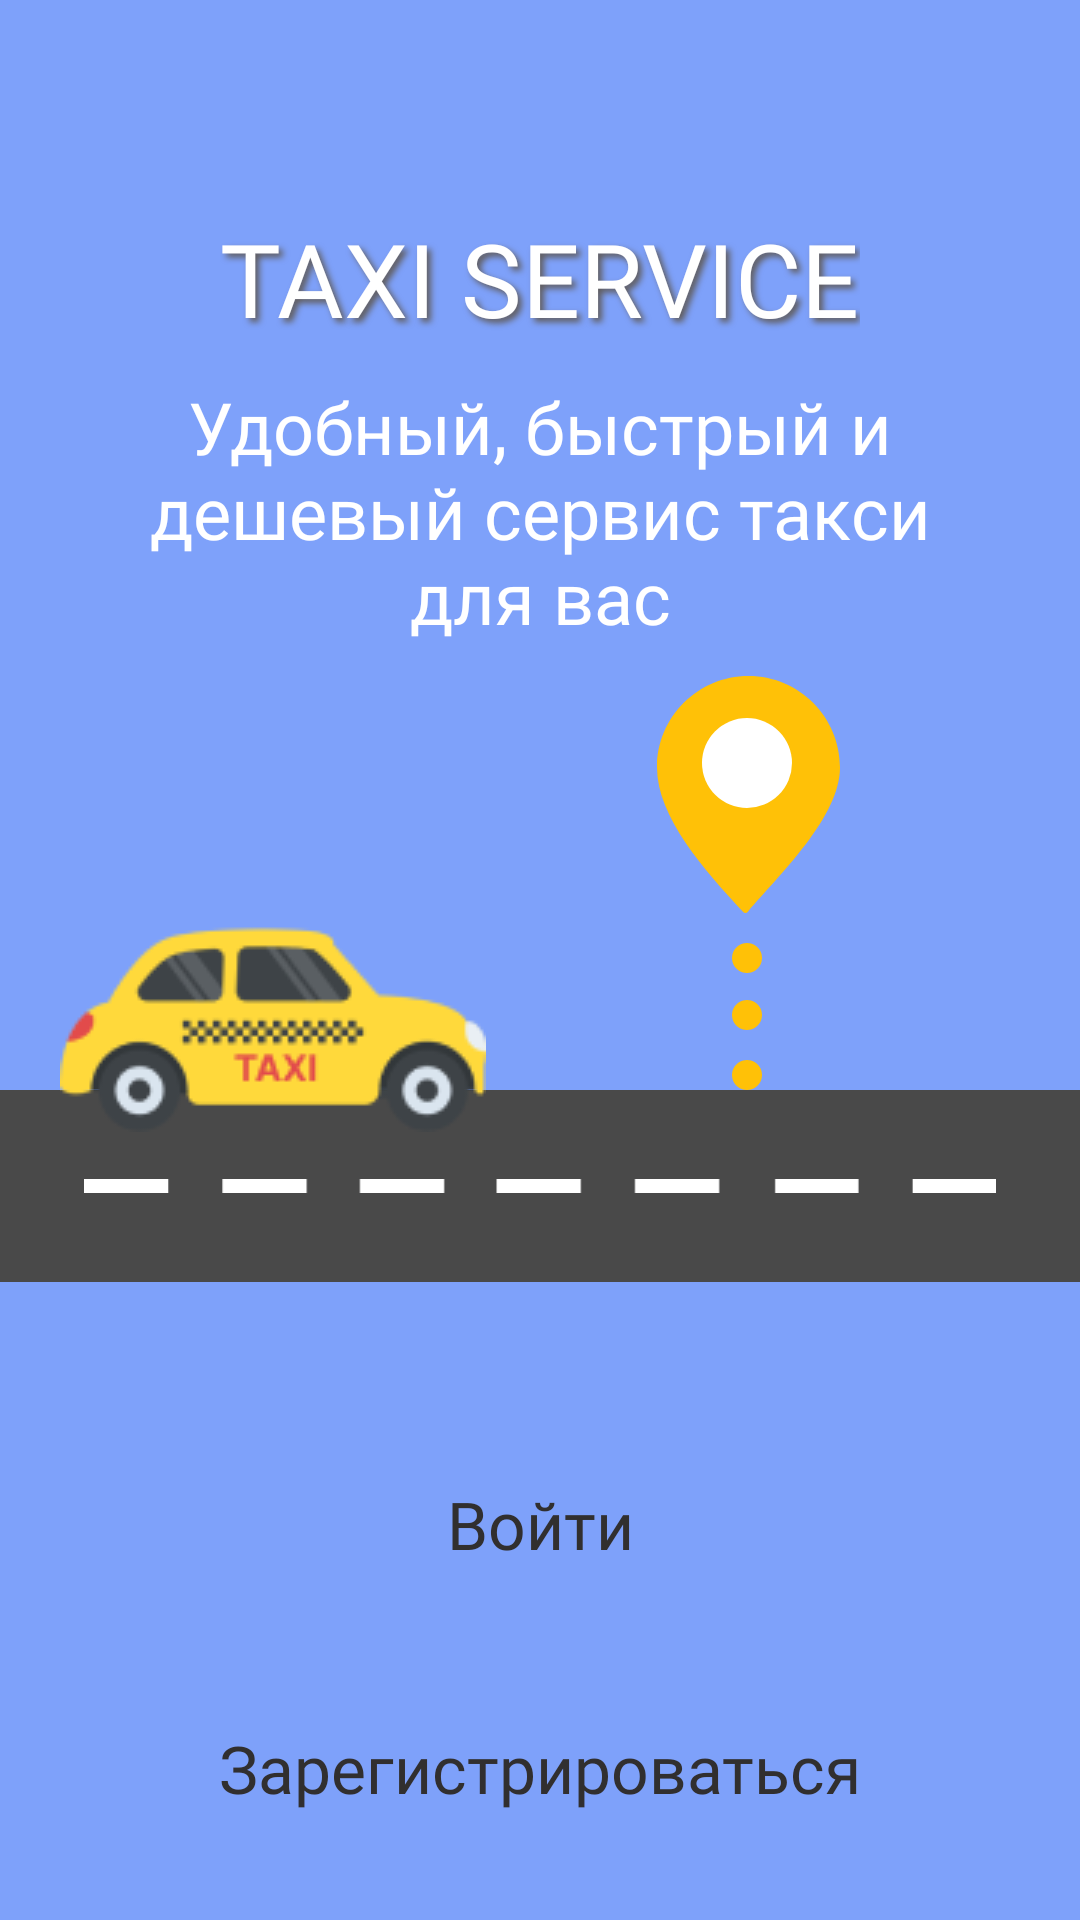

Named icons in this screenshot (1080*1920) and their bounding boxes, detection(x1, y1, x2, y2):
pic location: detection(657, 676, 840, 1030)
